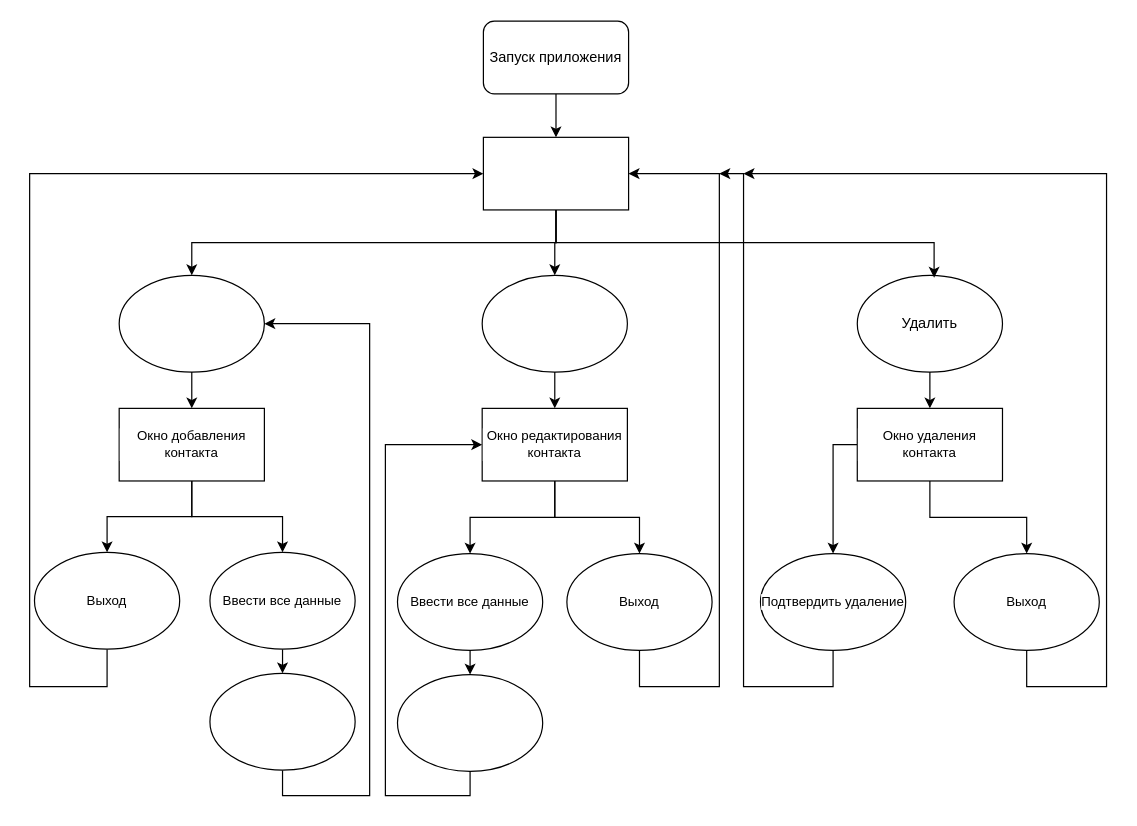
This 1137x826 diagram has some shape labels left out. The box of each missing label's shape, as (x1, y1, x2, y2) in pixels:
Главное окно: (482, 136, 629, 210)
Двойное нажатие мыши на любом контакте: (481, 274, 627, 372)
Добавить контакт: (118, 274, 264, 372)
Обновить: (396, 673, 543, 771)
Сохранить: (209, 672, 355, 770)
